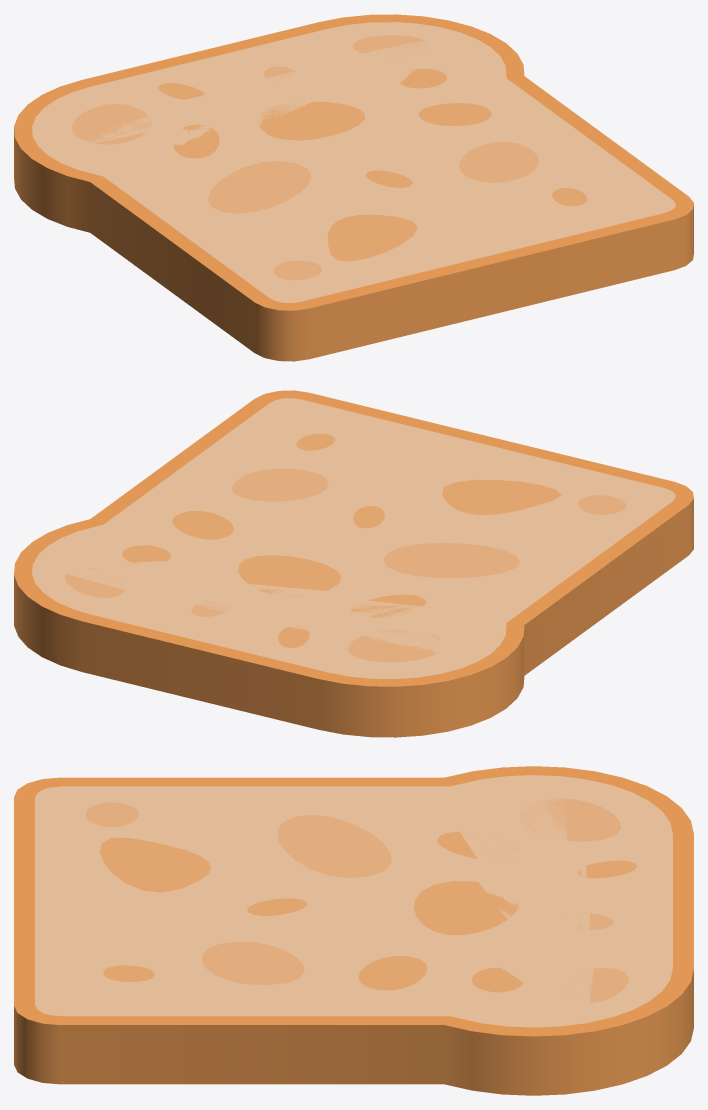
File: Bread B.fbx
The picture shows the model from 3 angles, top to bottom: view 1: azimuth 30°, elevation 25°; view 2: azimuth 150°, elevation 25°; view 3: azimuth 270°, elevation 25°; orthographic projection. The views are drawn at different scales.
Visible parts, largest first — view 1: Bread B; view 2: Bread B; view 3: Bread B.
Boxes of the visible parts, x1=… form: Bread B: x1=14, y1=14, x2=693, y2=361; Bread B: x1=14, y1=390, x2=693, y2=737; Bread B: x1=14, y1=766, x2=693, y2=1095.
Size of the model in its own units: 0.6767 by 0.0692 by 0.7193.
